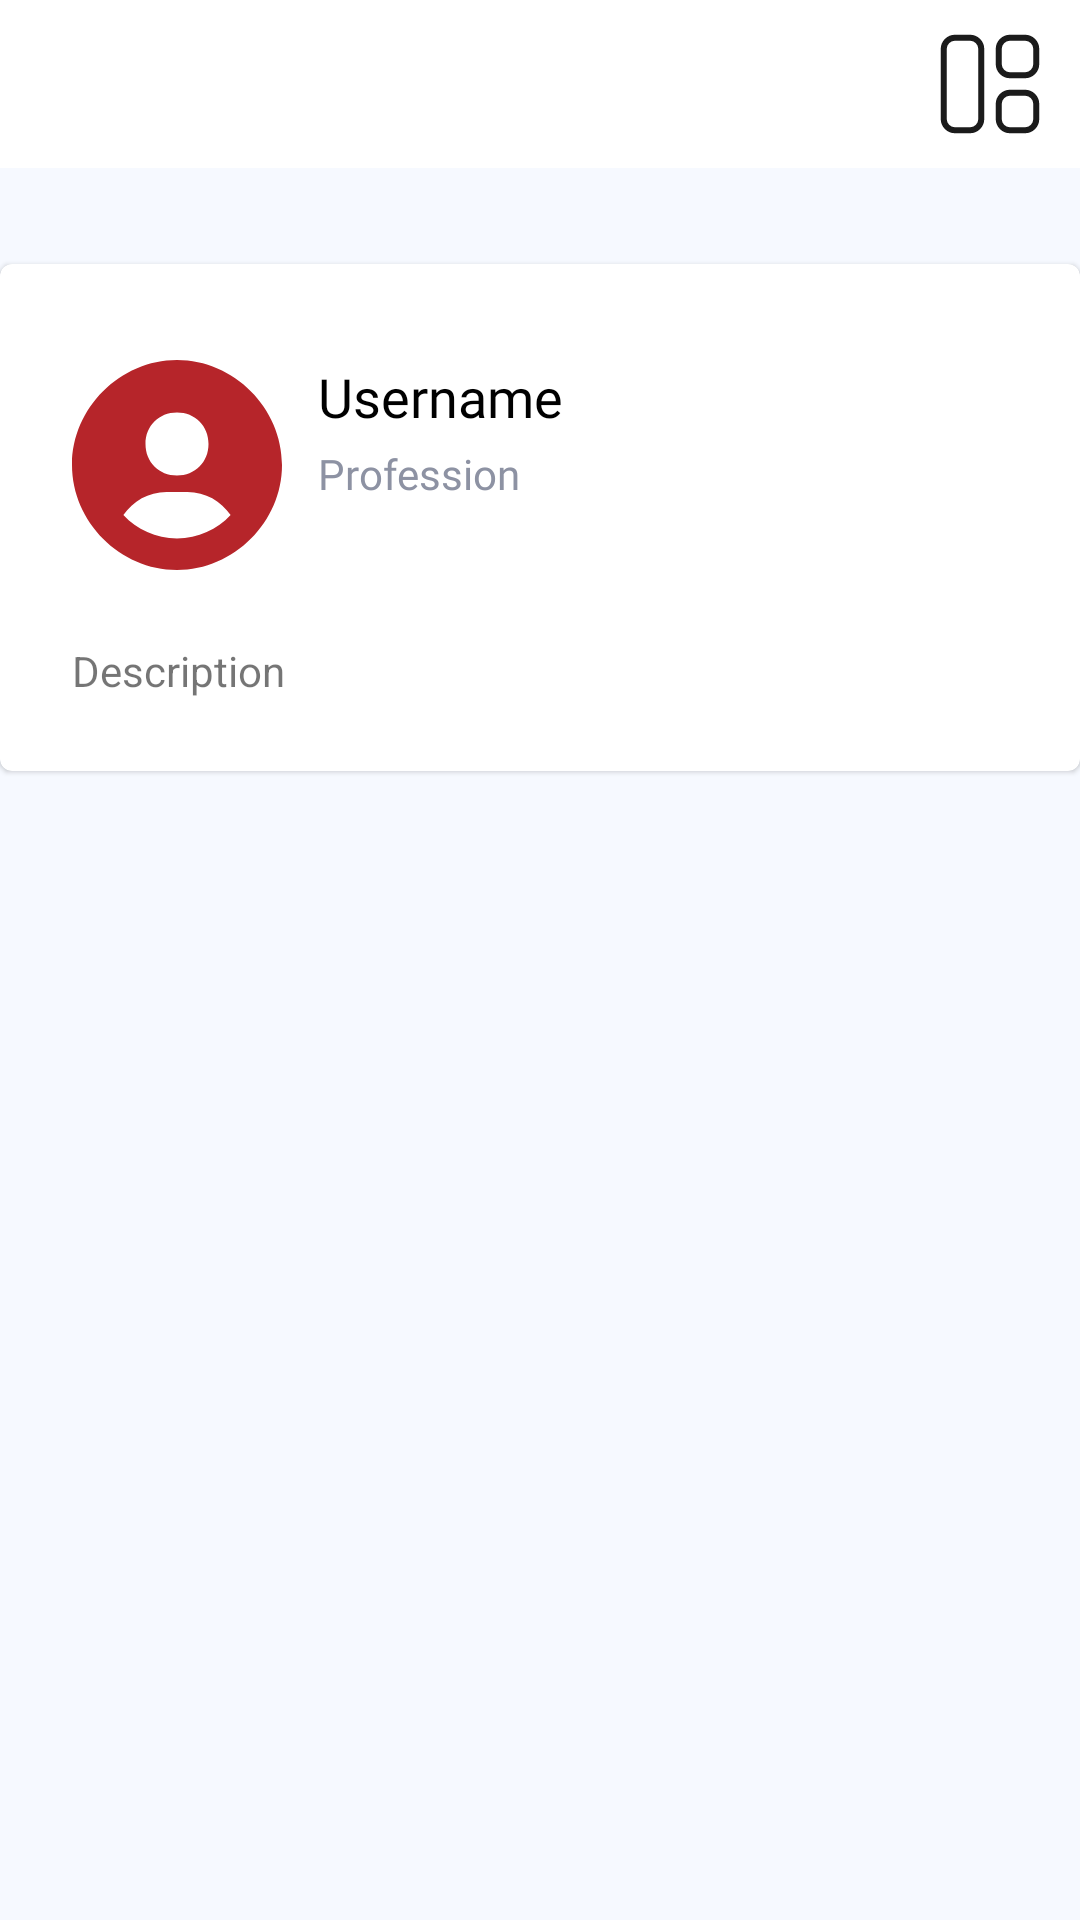

Locate icon controls on the screen. Image size 1080 x 1920, boxes as (x1, y1, x2, y2).
user profile: (72, 360, 282, 570)
